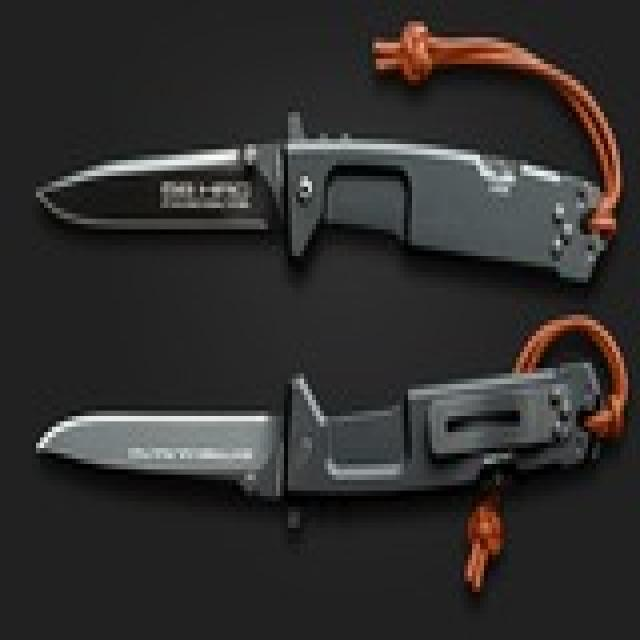Knife: (18, 142, 614, 500)
